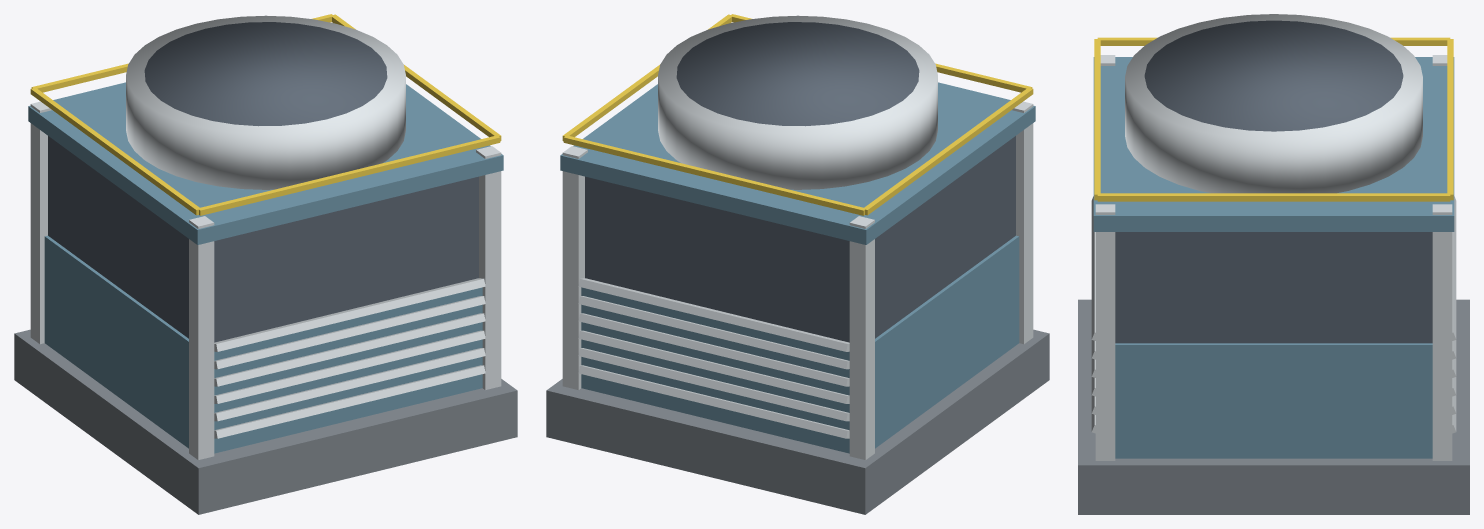
The model's file is cooling_cell.glb.
3 views of the same model, side by side, from view 1: azimuth 30°, elevation 25°; view 2: azimuth 150°, elevation 25°; view 3: azimuth 270°, elevation 25° (orthographic). The views are drawn at different scales.
Parts seen in each view (by area): view 1: UpperCasing, LowerPlenum, WaterBasin, FanShroudOuter, FanDeck, FanThroat, CoolCol_-0.45_-0.43, CoolCol_0.45_-0.43, CoolCol_-0.45_0.43, Louver_-1.0_5, Louver_-1.0_1, Louver_-1.0_3 (+7 smaller); view 2: UpperCasing, LowerPlenum, WaterBasin, FanShroudOuter, FanDeck, FanThroat, CoolCol_-0.45_0.43, CoolCol_0.45_0.43, CoolCol_-0.45_-0.43, Louver_1.0_5, Louver_1.0_1, Louver_1.0_3 (+7 smaller); view 3: LowerPlenum, UpperCasing, WaterBasin, FanShroudOuter, FanThroat, FanDeck, CoolCol_0.45_0.43, CoolCol_0.45_-0.43, DeckRailE, DeckRailN, DeckRailS, DeckRailW (+2 smaller).
Part boxes in pixels (box(x1,y1,x2,y2)): UpperCasing: box(48, 136, 478, 342); LowerPlenum: box(44, 235, 482, 453); WaterBasin: box(14, 329, 517, 514); FanShroudOuter: box(126, 15, 405, 189); FanDeck: box(28, 82, 503, 244); FanThroat: box(144, 22, 387, 126); CoolCol_-0.45_-0.43: box(189, 216, 214, 460); CoolCol_0.45_-0.43: box(476, 146, 501, 389); CoolCol_-0.45_0.43: box(30, 101, 51, 344); Louver_-1.0_5: box(214, 278, 485, 351); Louver_-1.0_1: box(214, 348, 485, 421); Louver_-1.0_3: box(214, 313, 485, 386); UpperCasing: box(585, 136, 1015, 342); LowerPlenum: box(581, 235, 1019, 453); WaterBasin: box(546, 329, 1049, 514); FanShroudOuter: box(658, 15, 937, 189); FanDeck: box(560, 82, 1035, 244); FanThroat: box(676, 22, 919, 126); CoolCol_-0.45_0.43: box(849, 216, 874, 460); CoolCol_0.45_0.43: box(562, 146, 587, 389); CoolCol_-0.45_-0.43: box(1012, 101, 1033, 344); Louver_1.0_5: box(578, 278, 849, 351); Louver_1.0_1: box(578, 348, 849, 421); Louver_1.0_3: box(578, 313, 849, 386); LowerPlenum: box(1115, 343, 1432, 458); UpperCasing: box(1115, 232, 1432, 343); WaterBasin: box(1078, 299, 1469, 514); FanShroudOuter: box(1125, 14, 1422, 193); FanThroat: box(1144, 20, 1403, 131); FanDeck: box(1093, 57, 1454, 231); CoolCol_0.45_0.43: box(1432, 204, 1452, 460); CoolCol_0.45_-0.43: box(1095, 204, 1115, 460); DeckRailE: box(1097, 193, 1450, 201); DeckRailN: box(1447, 39, 1453, 200); DeckRailS: box(1094, 39, 1100, 200); DeckRailW: box(1097, 37, 1450, 45).
Size of the model in its own units: 1 by 1 by 1.
